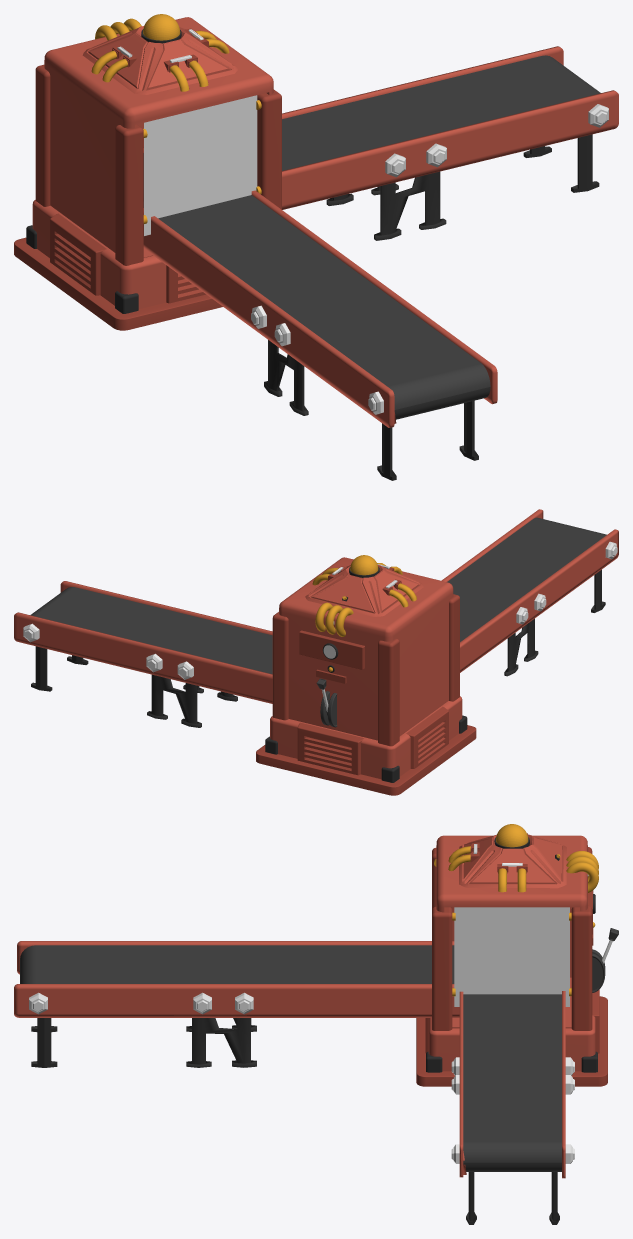
The picture shows the model from 3 angles, top to bottom: view 1: azimuth 30°, elevation 25°; view 2: azimuth 150°, elevation 25°; view 3: azimuth 270°, elevation 25°; orthographic projection. The views are drawn at different scales.
Parts seen in each view (by area): view 1: Belt, Table_Table_0.003, MachineBody_Top, Plane1, Leg_Single_02, Box001_Box001_basematerial_0, Machine_Base, Top_Corner_02, MachineBody_Bottom, Vent_02, Top_Corner_01, Top_Corner_04 (+3 smaller); view 2: Belt, MachineBody_Top, Table_Table_0.003, Leg_Single_02, MachineBody_Bottom, Machine_Base, Box001_Box001_basematerial_0, Vent_04, Top_Corner_04, Top_Corner_03, Vent_02, Gauge_Holder_BackPlate (+4 smaller); view 3: Belt, Table_Table_0.003, Plane, MachineBody_Top, Box001_Box001_basematerial_0, Leg_Single_02, Top_Corner_03, Top_Corner_01, Machine_Base, MachineBody_Bottom, Large_Side_Screw01, Sphere.
Boxes of the visible parts, x1,y1,x2,y2 form: Belt: (143,55,600,419); Table_Table_0.003: (143,46,618,427); MachineBody_Top: (44,17,273,257); Plane1: (144,95,257,235); Leg_Single_02: (264,134,599,480); Box001_Box001_basematerial_0: (82,26,238,94); Machine_Base: (14,237,222,330); Top_Corner_02: (115,124,143,265); MachineBody_Bottom: (32,200,166,308); Vent_02: (50,213,106,295); Top_Corner_01: (257,89,281,209); Top_Corner_04: (35,64,50,206); Belt: (30,517,606,674); MachineBody_Top: (279,557,453,740); Table_Table_0.003: (14,509,618,703); Leg_Single_02: (31,569,605,727); MachineBody_Bottom: (270,696,462,779); Machine_Base: (256,725,476,795); Box001_Box001_basematerial_0: (305,565,423,616); Vent_04: (297,722,363,775); Top_Corner_04: (378,638,399,746); Top_Corner_03: (272,612,288,720); Vent_02: (406,706,448,768); Gauge_Holder_BackPlate: (299,630,364,669); Belt: (20,945,561,1171); Table_Table_0.003: (14,941,565,1178); Plane: (454,907,569,1006); MachineBody_Top: (436,835,587,1028); Box001_Box001_basematerial_0: (459,834,566,888); Leg_Single_02: (31,1018,559,1224); Top_Corner_03: (571,906,592,1030); Top_Corner_01: (432,906,452,1030); Machine_Base: (416,996,607,1086); MachineBody_Bottom: (428,1015,595,1071); Large_Side_Screw01: (29,992,574,1163); Sphere: (496,824,528,847).
Bounding box in the file's own units: 3.93 × 1.81 × 4.45.
